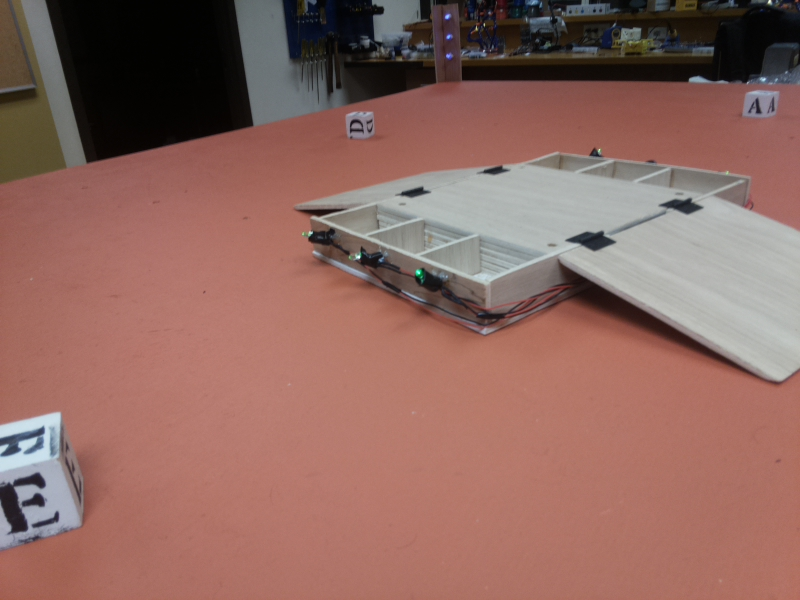blockA: (744, 90, 779, 121)
blockD: (344, 110, 379, 142)
blockE: (2, 413, 85, 552)
side: (306, 216, 491, 339), (552, 142, 751, 178)
slope: (553, 193, 800, 384), (299, 169, 511, 208)
